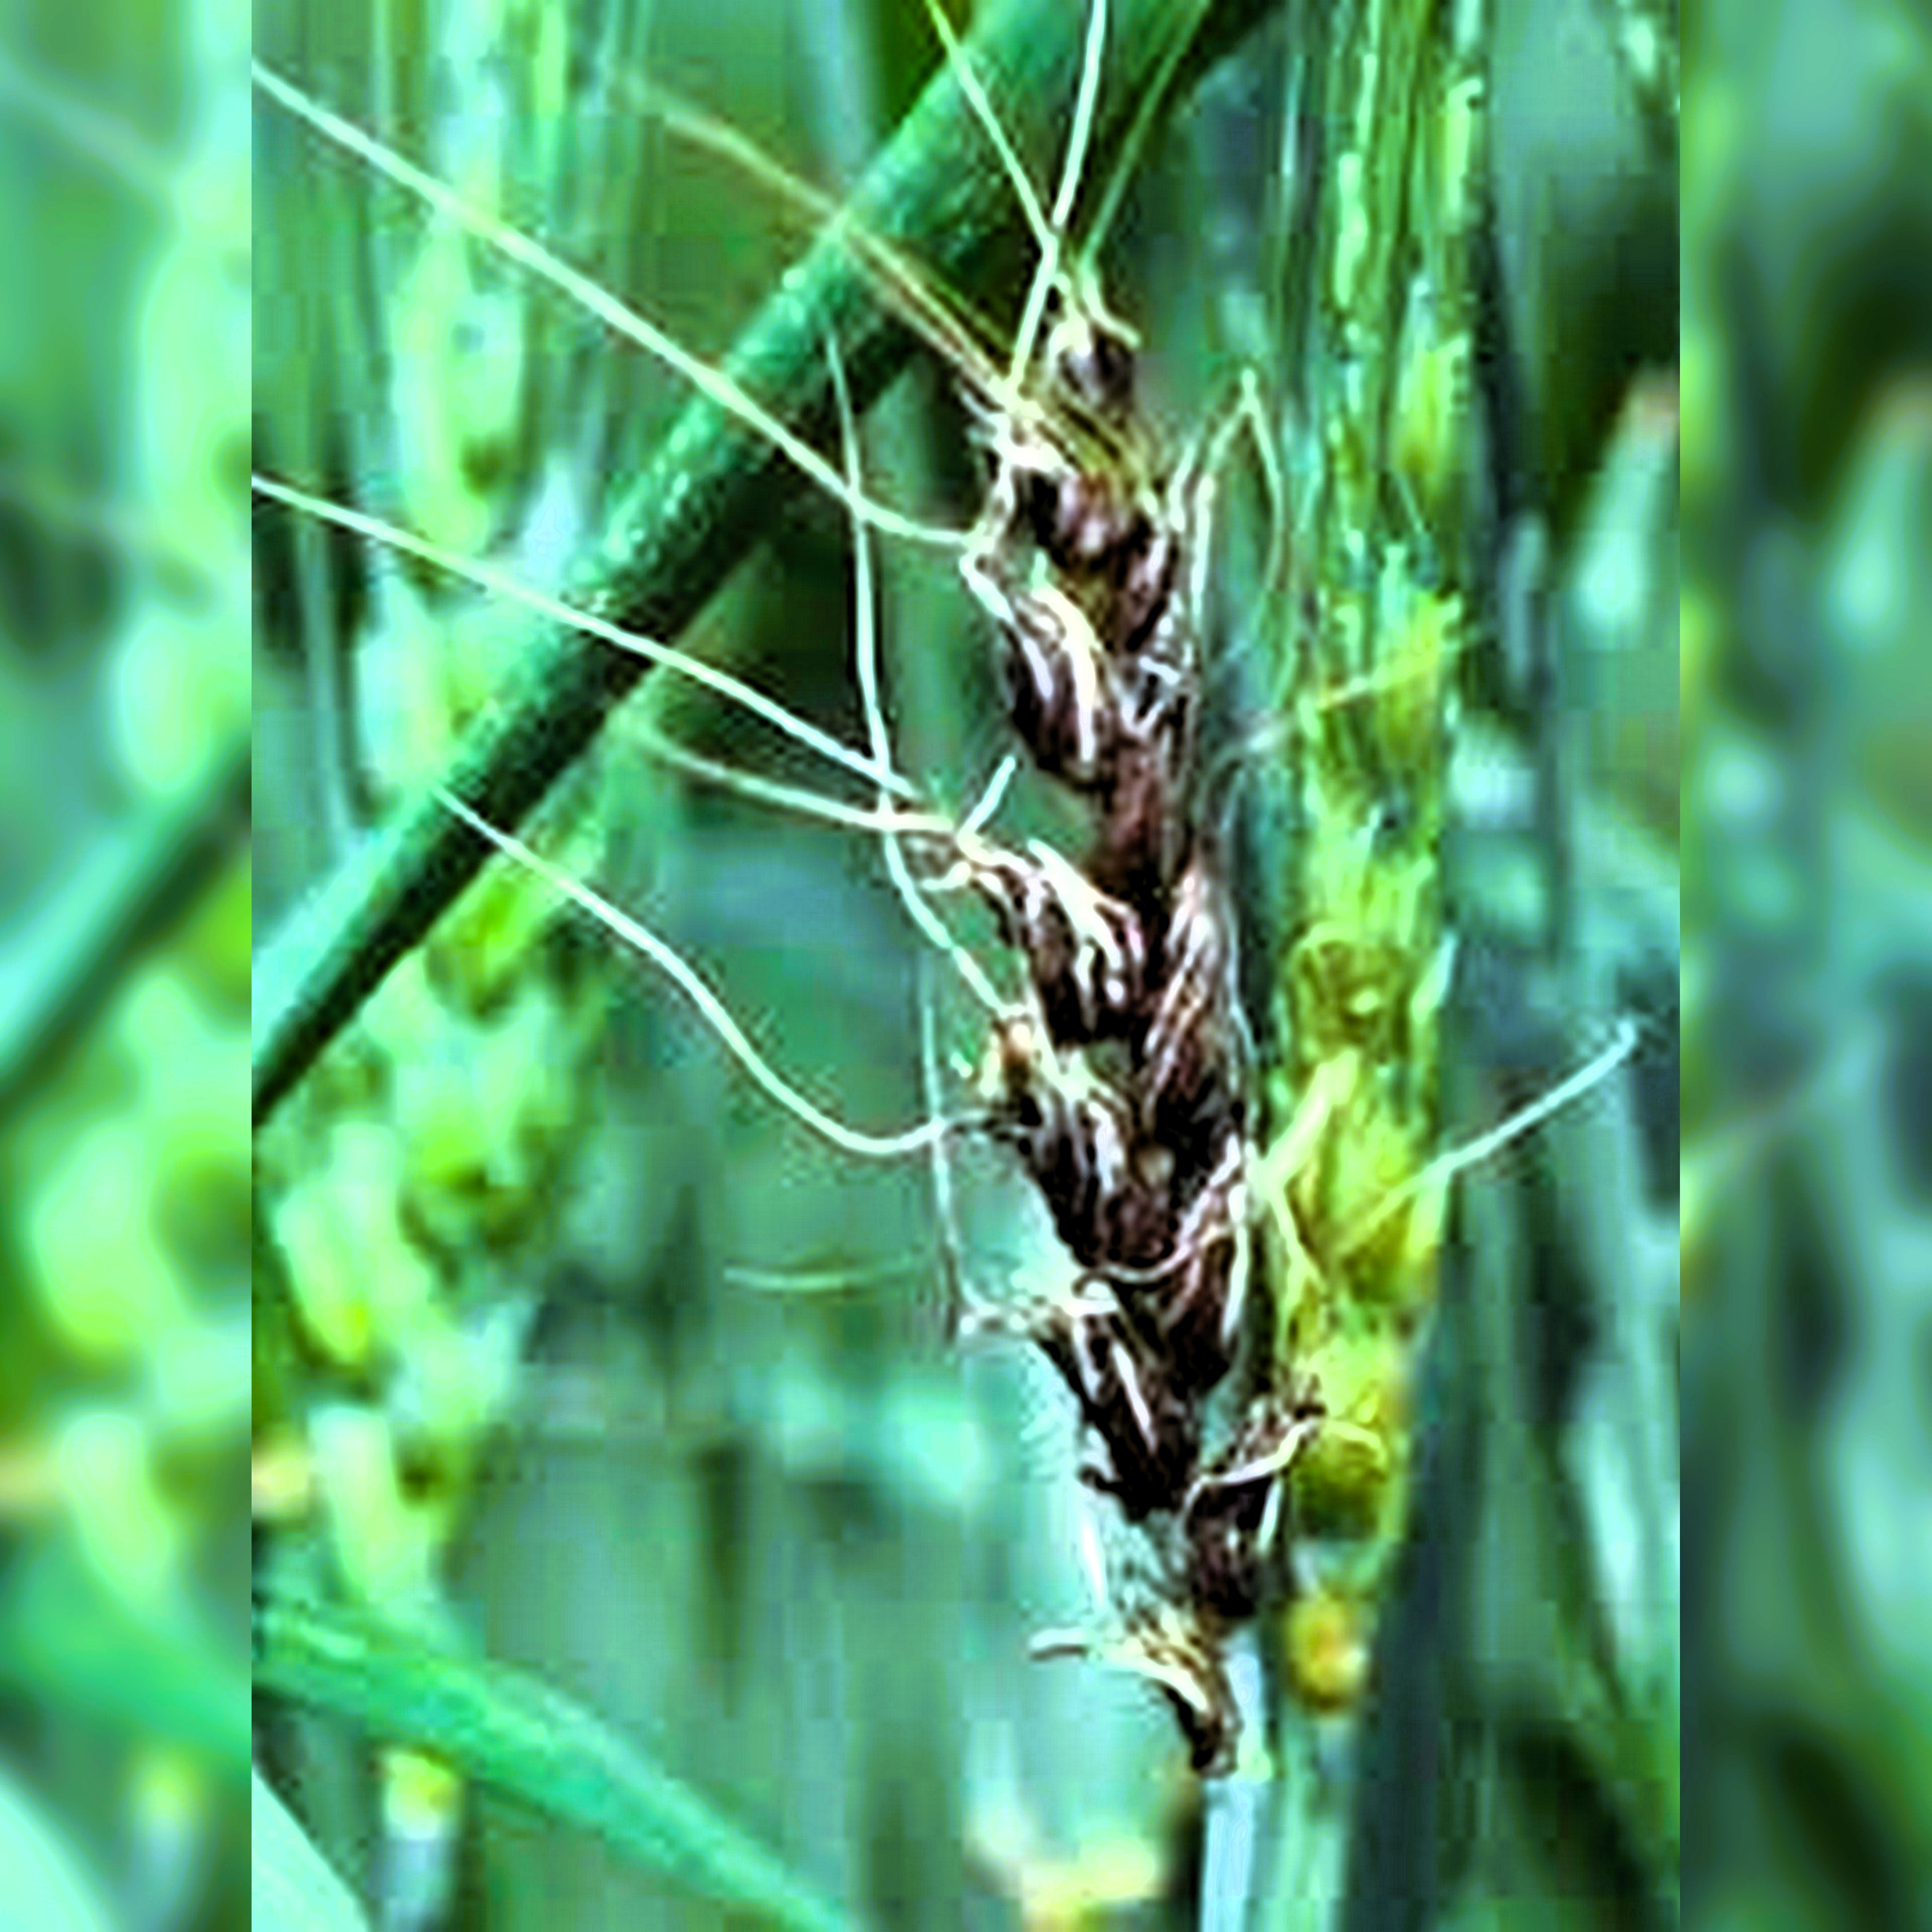Wheat Loose Smut: (724, 324, 1288, 1672)
